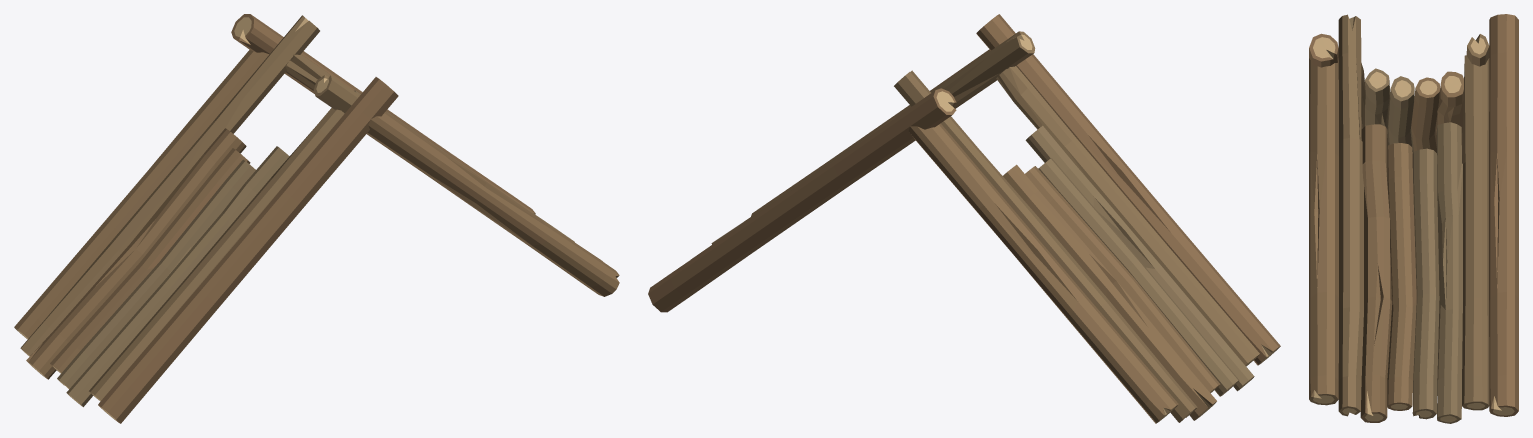
The model's file is rpgpp_ag_roof_01_6x3x3_chimney_01.fbx.
3 renders of one model, left to right at view 1: azimuth 30°, elevation 25°; view 2: azimuth 150°, elevation 25°; view 3: azimuth 270°, elevation 25°, orthographic. The views are drawn at different scales.
Parts seen in each view (by area): view 1: rpgpp_ag_roof_01a_6x3x3_chimney_01; view 2: rpgpp_ag_roof_01a_6x3x3_chimney_01; view 3: rpgpp_ag_roof_01a_6x3x3_chimney_01.
Part boxes in pixels (x1,y1,x2,y2): rpgpp_ag_roof_01a_6x3x3_chimney_01: [14, 14, 619, 423]; rpgpp_ag_roof_01a_6x3x3_chimney_01: [648, 14, 1280, 423]; rpgpp_ag_roof_01a_6x3x3_chimney_01: [1309, 14, 1518, 423].
Size of the model in its own units: 8.61 by 4.43 by 3.
